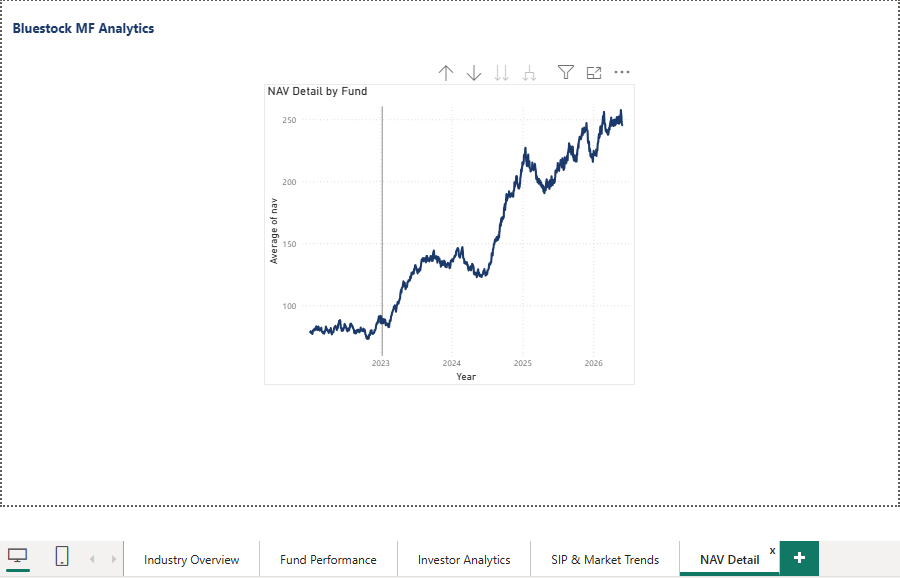

The dashboard page shown, as its layout file describes it:
{"tool":"powerbi","page":{"name":"NAV Detail","canvas":[1280,720],"ordinal":4},"visuals":[{"type":"lineChart","title":"NAV Detail by Fund","fields":{"Y":["Avg(NAV.nav)"],"Category":["NAV.date.Variation.Date Hierarchy.Year","NAV.date.Variation.Date Hierarchy.Quarter","NAV.date.Variation.Date Hierarchy.Month","NAV.date.Variation.Date Hierarchy.Day"]},"box":[374.6,118.5,529.8,430.2],"z":0},{"type":"textbox","box":[10.2,20.5,235.6,61.5],"z":2001}]}

Visuals, with their boxes on the page's 1280x720 design canvas (x1, y1, x2, y2). These are canvas units, not pixel positions in the 900x578 screenshot, which may show the page scaled, cropped or inside an application window:
"NAV Detail by Fund" lineChart: 375,118,904,549
textbox: 10,20,246,82
